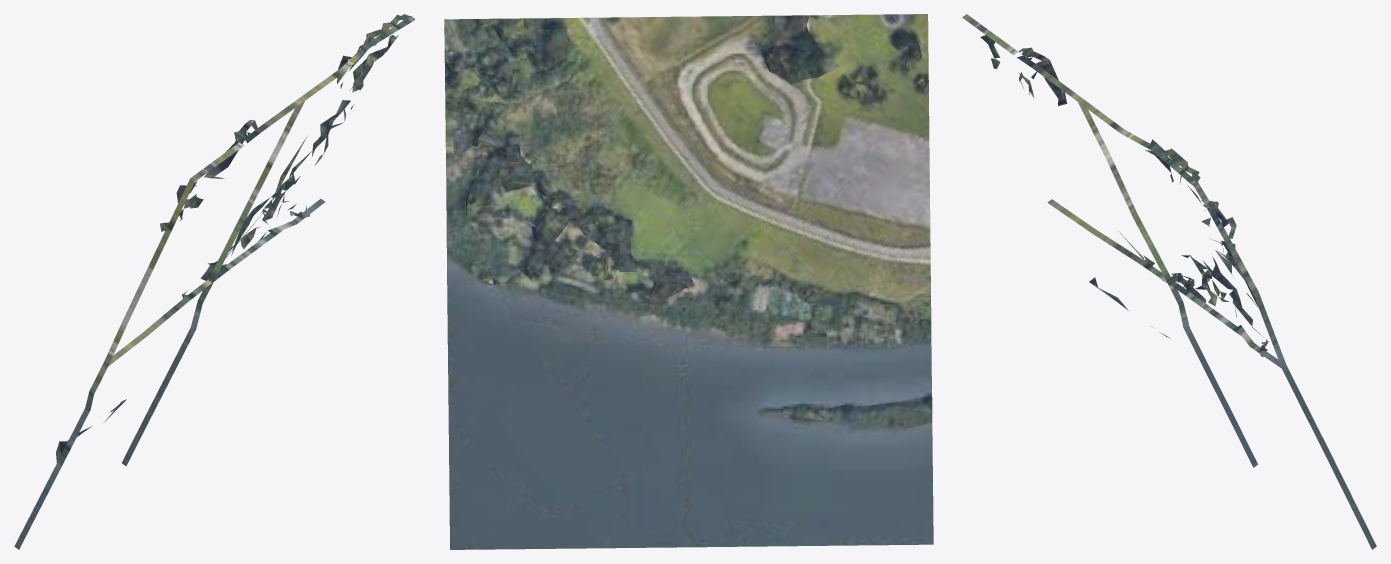
3 renders of one model, left to right at view 1: azimuth 30°, elevation 25°; view 2: azimuth 150°, elevation 25°; view 3: azimuth 270°, elevation 25°, orthographic. The views are drawn at different scales.
Bounding box in the file's own units: 305 × 282 × 253.
1 material, 1 textured.
